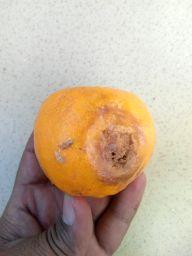Unripe: (33, 88, 157, 198)
